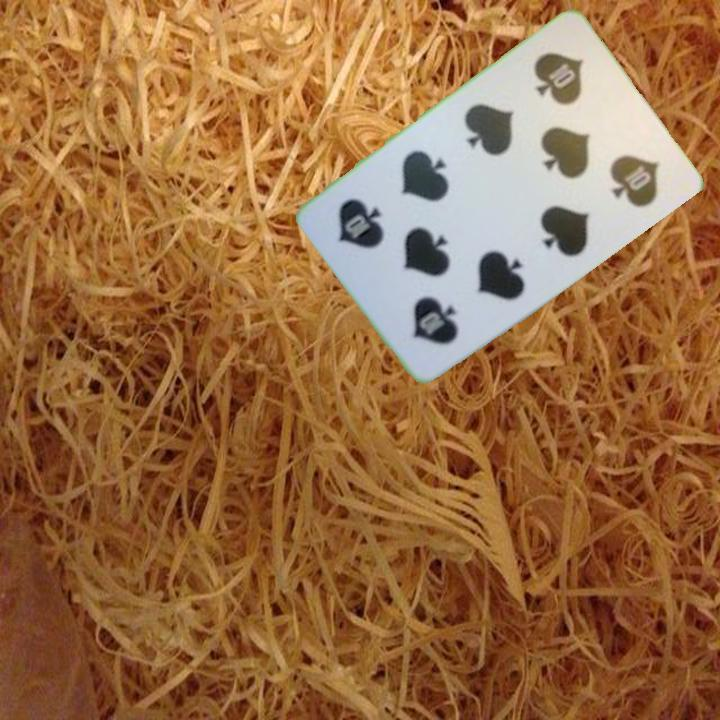s_10.png: (368, 241, 494, 370), (503, 26, 629, 155)
